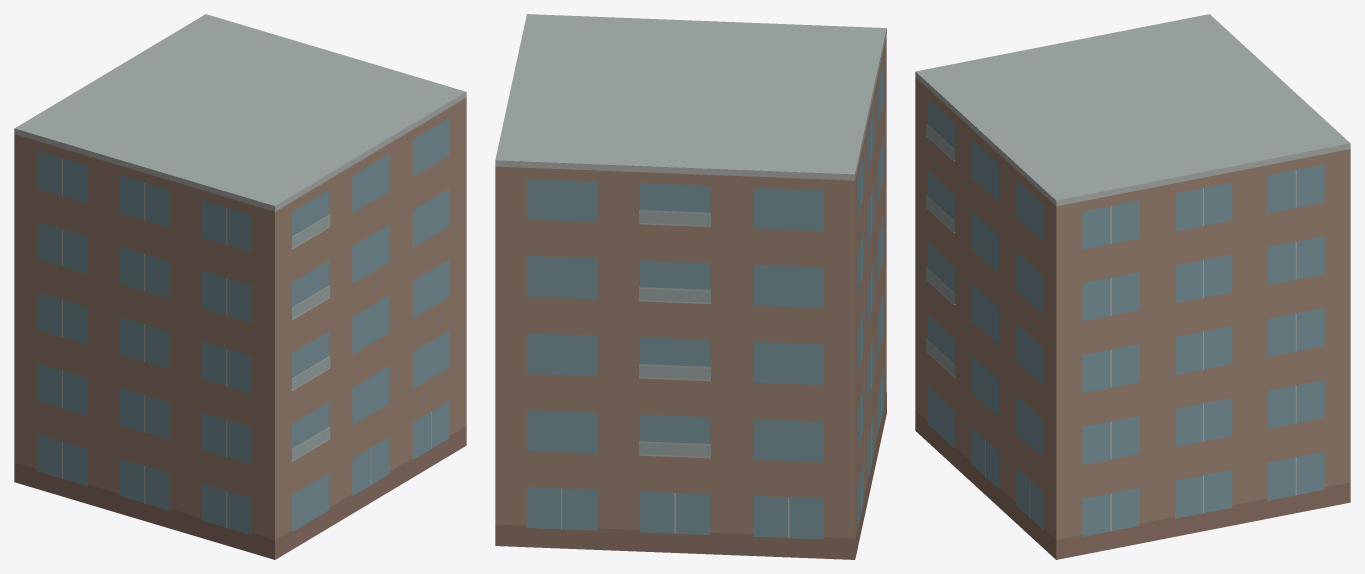
Rendered from residential-168939f1-0240-43a7-baef-a62ede3ded5a.glb.
The picture shows the model from 3 angles, left to right: view 1: azimuth 30°, elevation 25°; view 2: azimuth 150°, elevation 25°; view 3: azimuth 270°, elevation 25°; orthographic projection. The views are drawn at different scales.
Parts seen in each view (by area): view 1: residential-168939f1-0240-43a7-baef-a62ede3ded5a.tmp; view 2: residential-168939f1-0240-43a7-baef-a62ede3ded5a.tmp; view 3: residential-168939f1-0240-43a7-baef-a62ede3ded5a.tmp.
Boxes of the visible parts, x1,y1,x2,y2 form: residential-168939f1-0240-43a7-baef-a62ede3ded5a.tmp: (14,14,466,559); residential-168939f1-0240-43a7-baef-a62ede3ded5a.tmp: (495,14,886,559); residential-168939f1-0240-43a7-baef-a62ede3ded5a.tmp: (915,14,1350,559).
Bounding box in the file's own units: 17 × 15.25 × 16.75.
